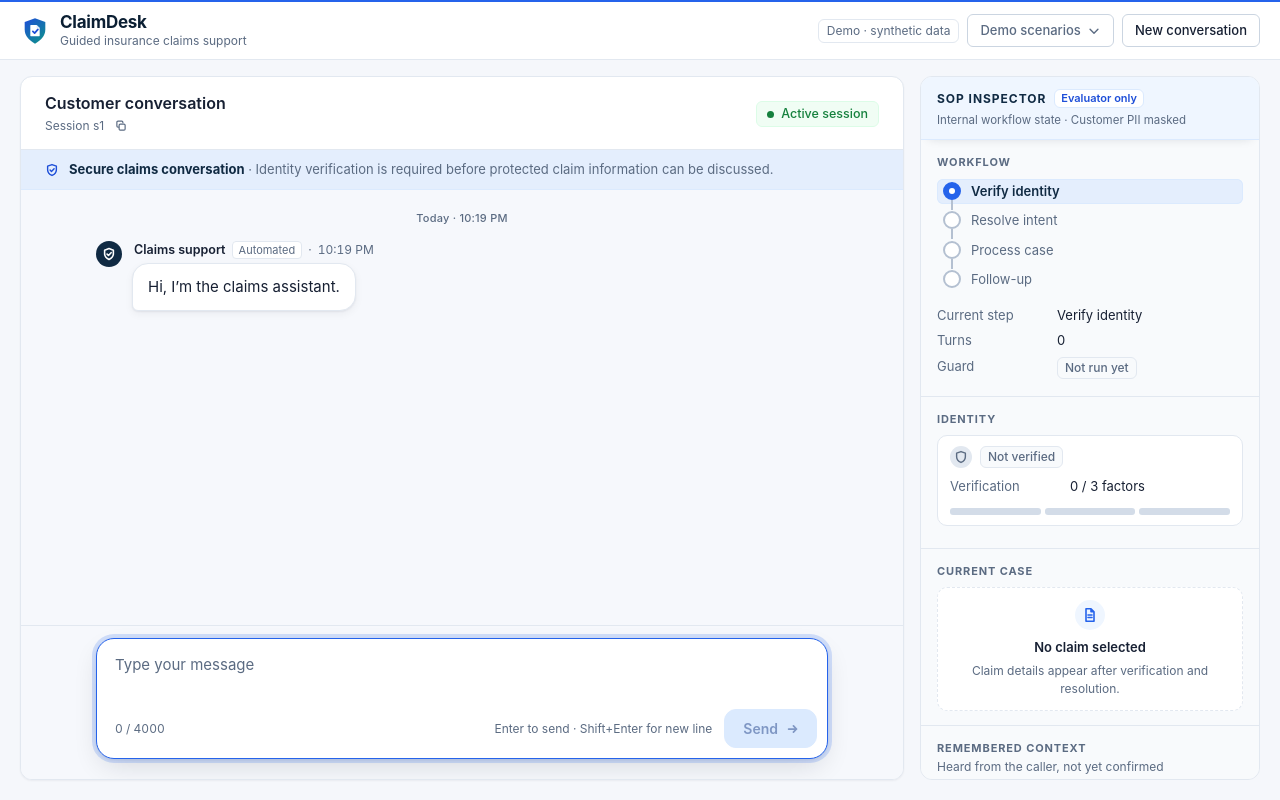
Test case: the Demo scenarios menu › closes when the evaluator clicks elsewhere
Expected: the text "Hi, I’m the claims assistant." is shown, [148, 275, 340, 299]
Click the button "Demo scenarios": (1041, 31) [967, 14, 1114, 47]
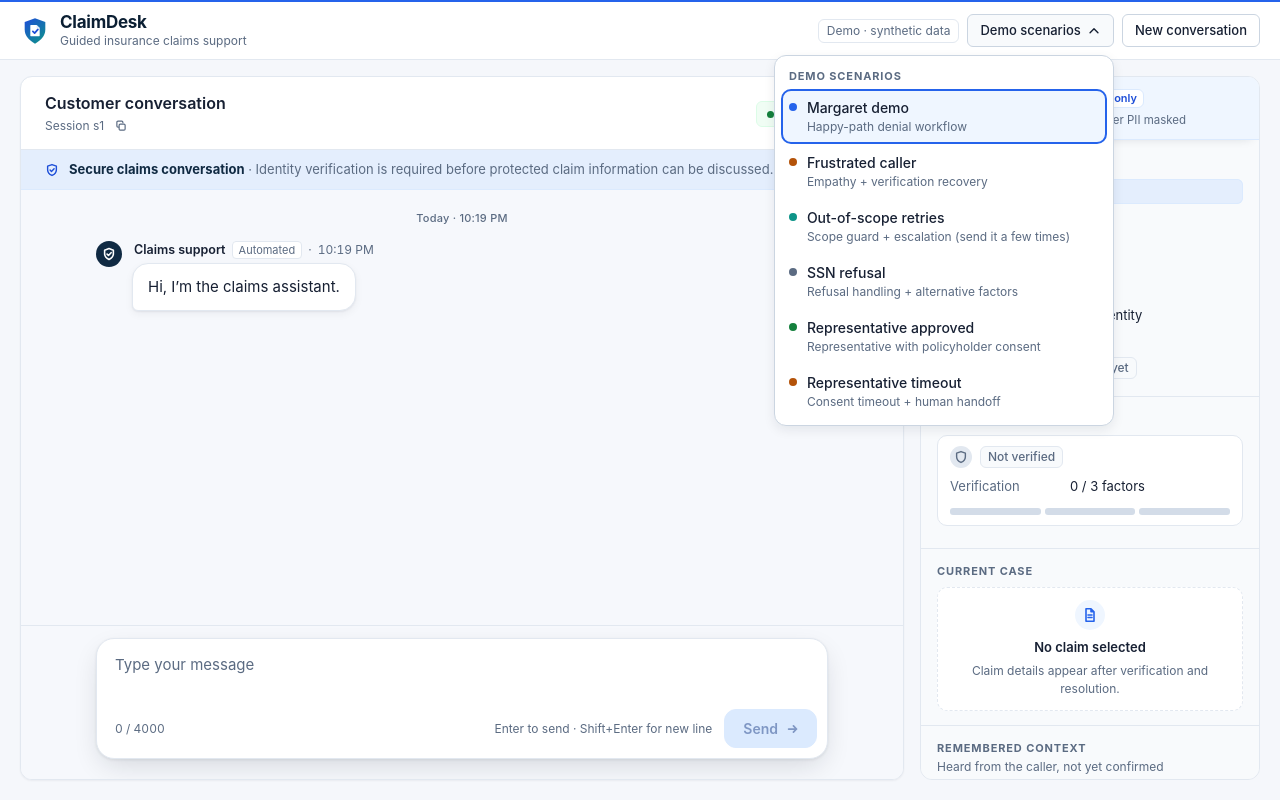
Now the menu is shown, box [774, 55, 1114, 426]
Click the element that starts with "ClaimDesk": (640, 400) [0, 0, 1279, 799]
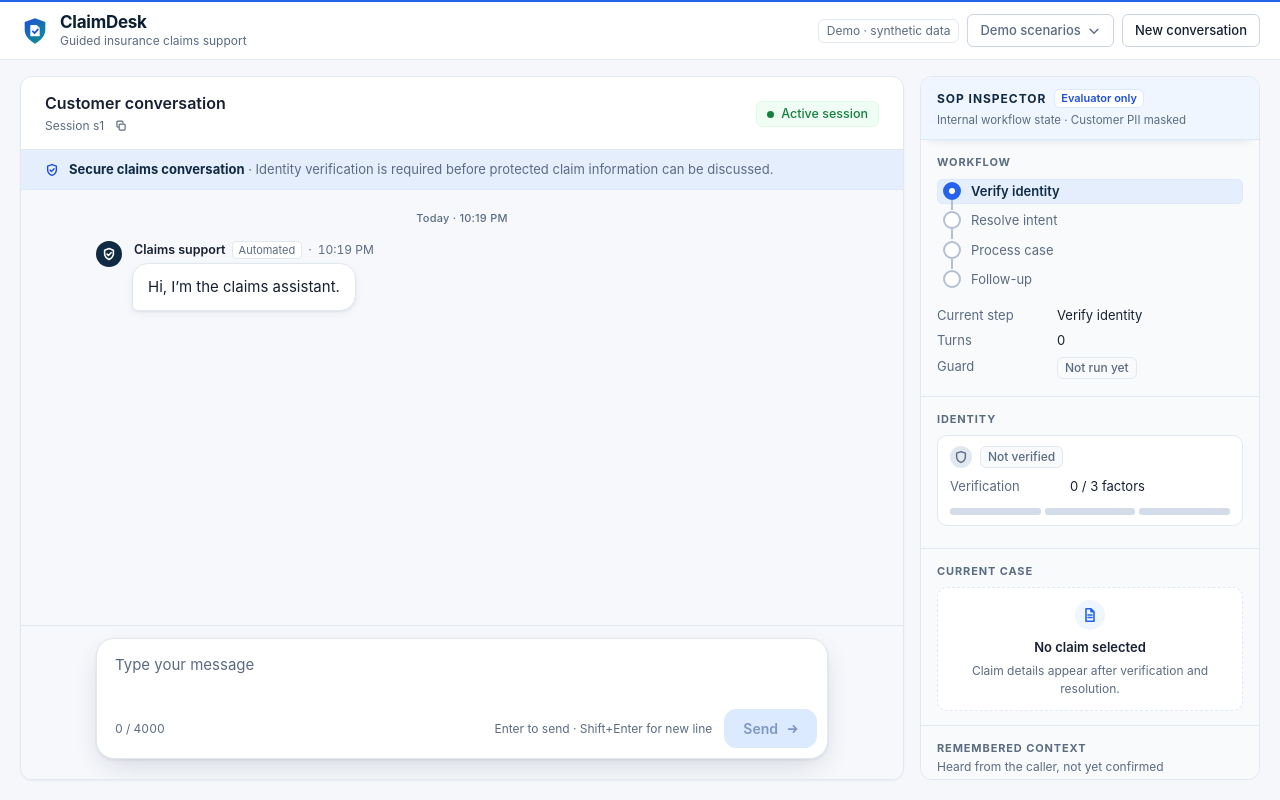
Now the menu is gone
